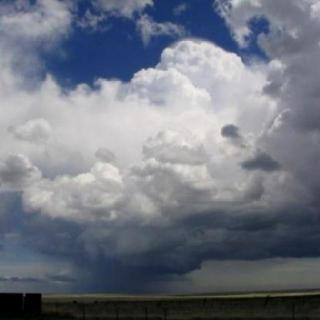Cumulonimbus: (0, 0, 320, 296)
